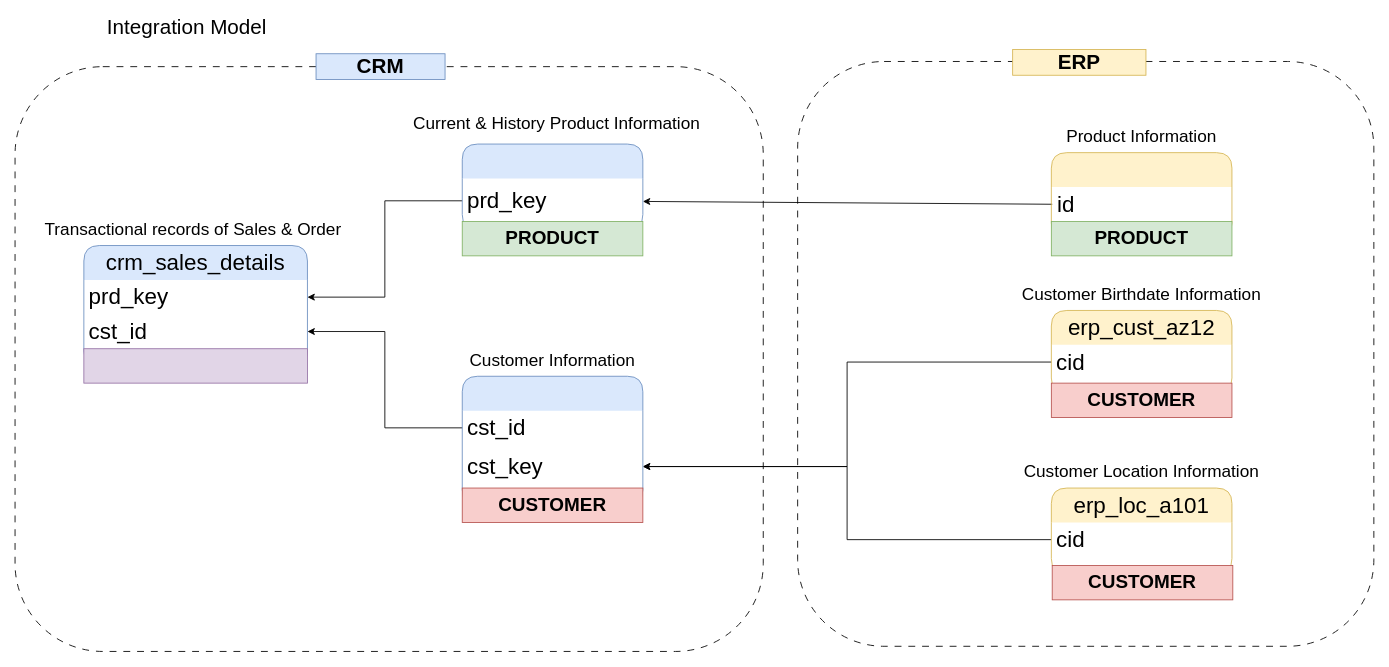
Some shapes in this 1389 by 667 pixel diagram are drawn without their labels. The box of each missing label's shape, as (x1, y1, x2, y2) in pixels:
crm_cust_info: (461, 375, 643, 505)
crm_prd_info: (461, 143, 643, 230)
erp_px_cat_g1v2: (1050, 152, 1232, 239)
SALES: (83, 348, 307, 383)
